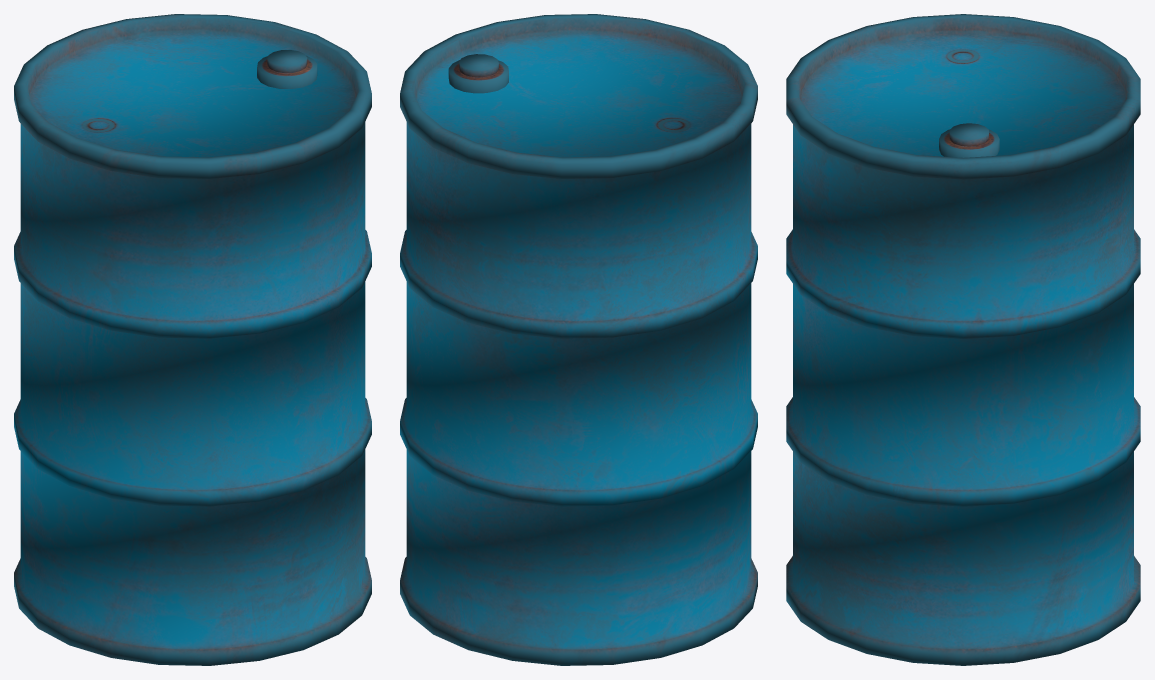
The model's file is barrel1.glb.
3 views of the same model, side by side, from view 1: azimuth 30°, elevation 25°; view 2: azimuth 150°, elevation 25°; view 3: azimuth 270°, elevation 25° (orthographic).
Parts seen in each view (by area): view 1: barrel_BLUE_b_BLUE_0; view 2: barrel_BLUE_b_BLUE_0; view 3: barrel_BLUE_b_BLUE_0.
Part boxes in pixels (box(x1,y1,x2,y2)): barrel_BLUE_b_BLUE_0: box(14, 14, 371, 665); barrel_BLUE_b_BLUE_0: box(400, 14, 757, 665); barrel_BLUE_b_BLUE_0: box(786, 14, 1140, 665).
Bounding box in the file's own units: 58.42 × 91.91 × 57.83.
1 material, 1 textured.
